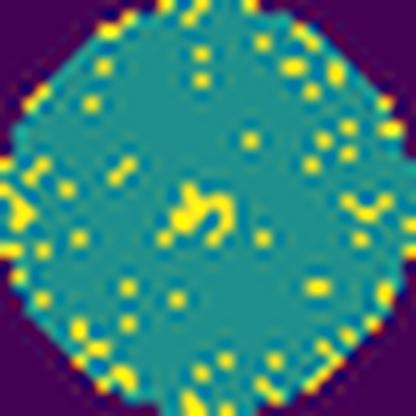Center: (166, 181, 242, 256)
